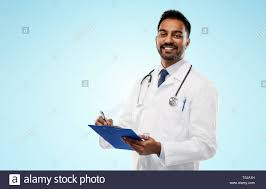Indian_Male: (156, 14, 192, 63)
